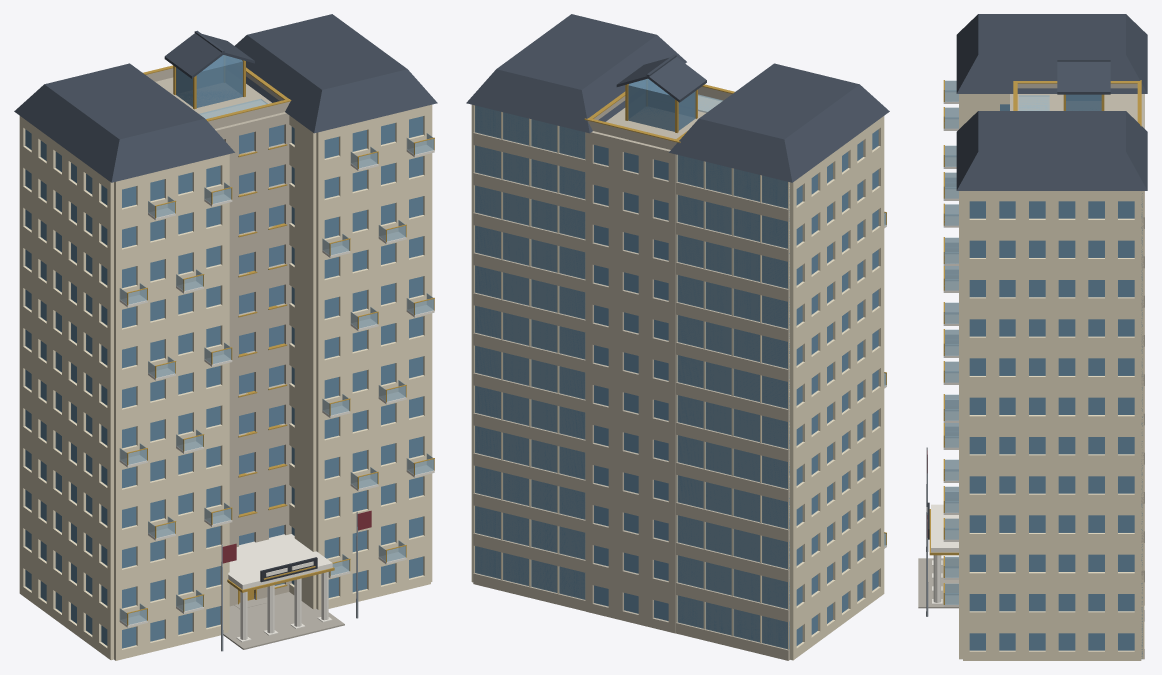
The model's file is BUILDING_11.obj.
3 views of the same model, side by side, from view 1: azimuth 30°, elevation 25°; view 2: azimuth 150°, elevation 25°; view 3: azimuth 270°, elevation 25° (orthographic). The views are drawn at different scales.
Visible parts, largest first — view 1: crown_roof, walls_floor11, walls_floor08, walls_floor04, walls_floor10, walls_floor06, walls_floor02, walls_floor07, walls_floor03, walls_floor05, walls_floor09, balconies (+20 smaller); view 2: facade_floor00, crown_roof, walls_floor11, mullions, walls_floor03, walls_floor06, walls_floor10, walls_floor02, walls_floor04, walls_floor08, walls_floor01, walls_floor07 (+29 smaller); view 3: crown_roof, walls_floor11, balconies, walls_floor01, walls_floor04, walls_floor05, walls_floor08, walls_floor09, walls_floor07, walls_floor03, walls_floor02, walls_floor06 (+21 smaller).
Boxes of the visible parts, <box> form: crown_roof: <box>14,14,437,182</box>; walls_floor11: <box>19,104,432,231</box>; walls_floor08: <box>19,233,432,351</box>; walls_floor04: <box>19,393,432,511</box>; walls_floor10: <box>19,153,432,271</box>; walls_floor06: <box>19,313,432,431</box>; walls_floor02: <box>19,473,432,591</box>; walls_floor07: <box>19,273,432,391</box>; walls_floor03: <box>19,433,432,551</box>; walls_floor05: <box>19,353,432,471</box>; walls_floor09: <box>19,193,432,311</box>; balconies: <box>119,133,434,627</box>; facade_floor00: <box>473,105,789,660</box>; crown_roof: <box>466,14,889,182</box>; walls_floor11: <box>471,104,884,231</box>; mullions: <box>473,105,789,649</box>; walls_floor03: <box>471,434,884,551</box>; walls_floor06: <box>471,313,884,431</box>; walls_floor10: <box>471,153,884,271</box>; walls_floor02: <box>471,474,884,591</box>; walls_floor04: <box>471,393,884,511</box>; walls_floor08: <box>471,233,884,351</box>; walls_floor01: <box>471,514,884,631</box>; walls_floor07: <box>471,273,884,391</box>; crown_roof: <box>956,14,1147,190</box>; walls_floor11: <box>959,94,1144,240</box>; balconies: <box>943,80,958,606</box>; walls_floor01: <box>959,539,1144,633</box>; walls_floor04: <box>959,421,1144,515</box>; walls_floor05: <box>959,382,1144,476</box>; walls_floor08: <box>959,264,1144,358</box>; walls_floor09: <box>959,225,1144,319</box>; walls_floor07: <box>959,303,1144,397</box>; walls_floor03: <box>959,460,1144,554</box>; walls_floor02: <box>959,499,1144,593</box>; walls_floor06: <box>959,342,1144,436</box>.
Bounding box in the file's own units: 29 × 45.42 × 18.
